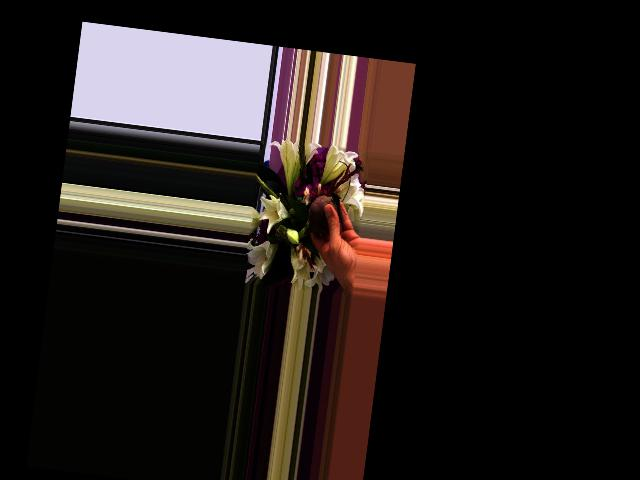beet: (298, 189, 341, 246)
